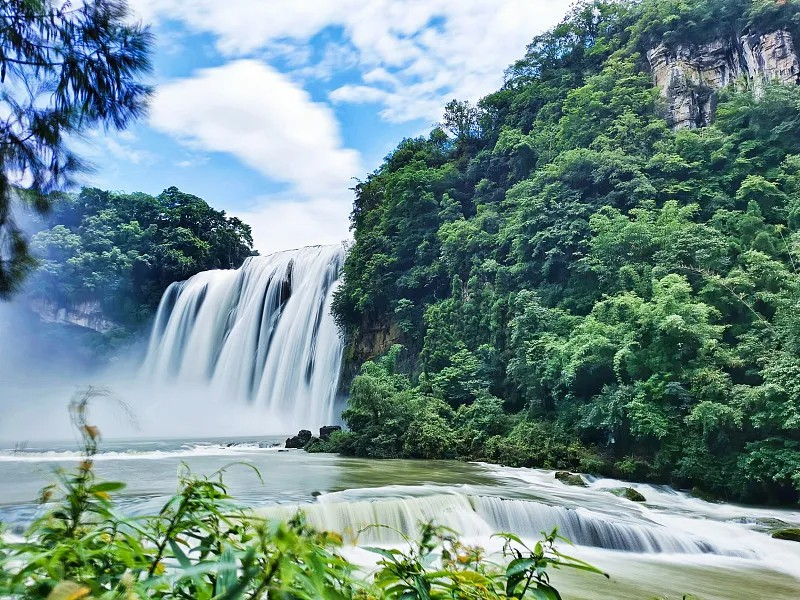Huangguoshu: (139, 243, 344, 438)
